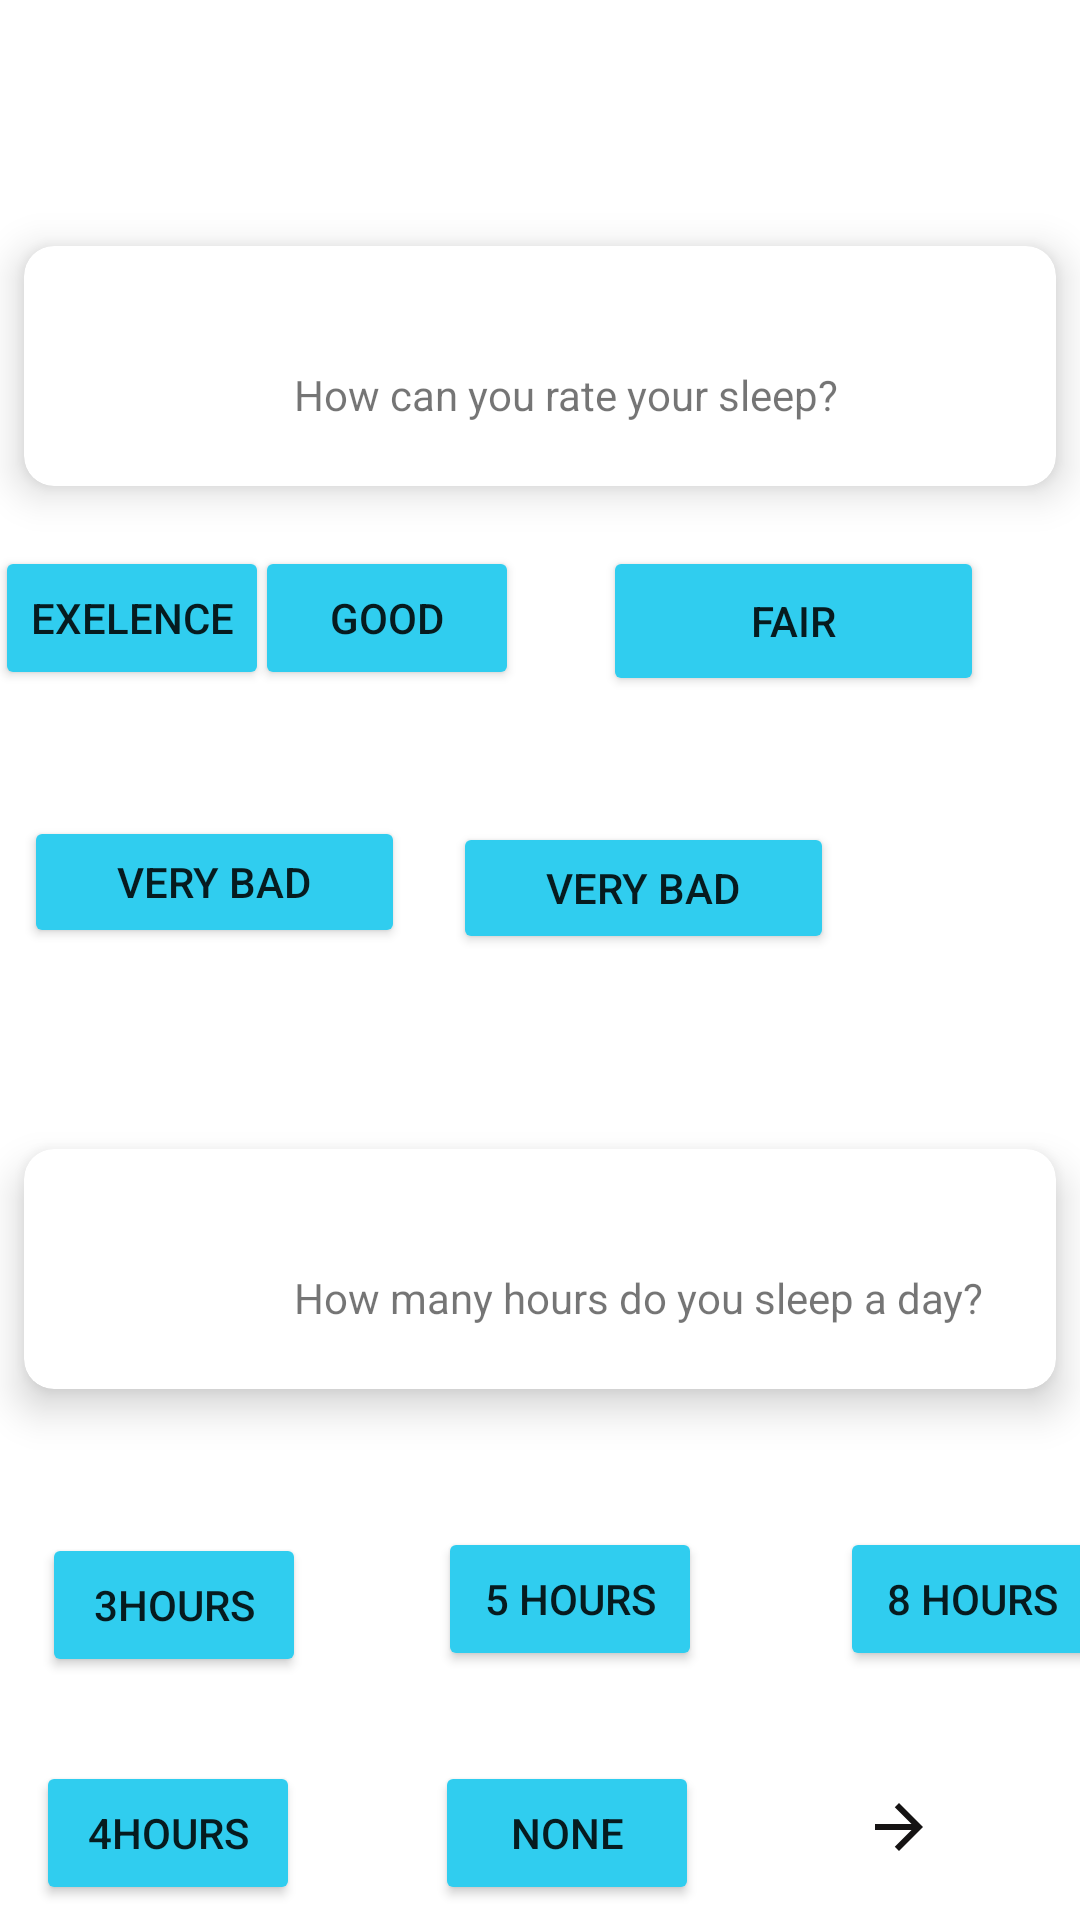

Locate icon controls on the screen. Image size 1080w x 1920h, boxes as (x1, y1, x2, y2).
arrow forward: (875, 1803, 923, 1851)
